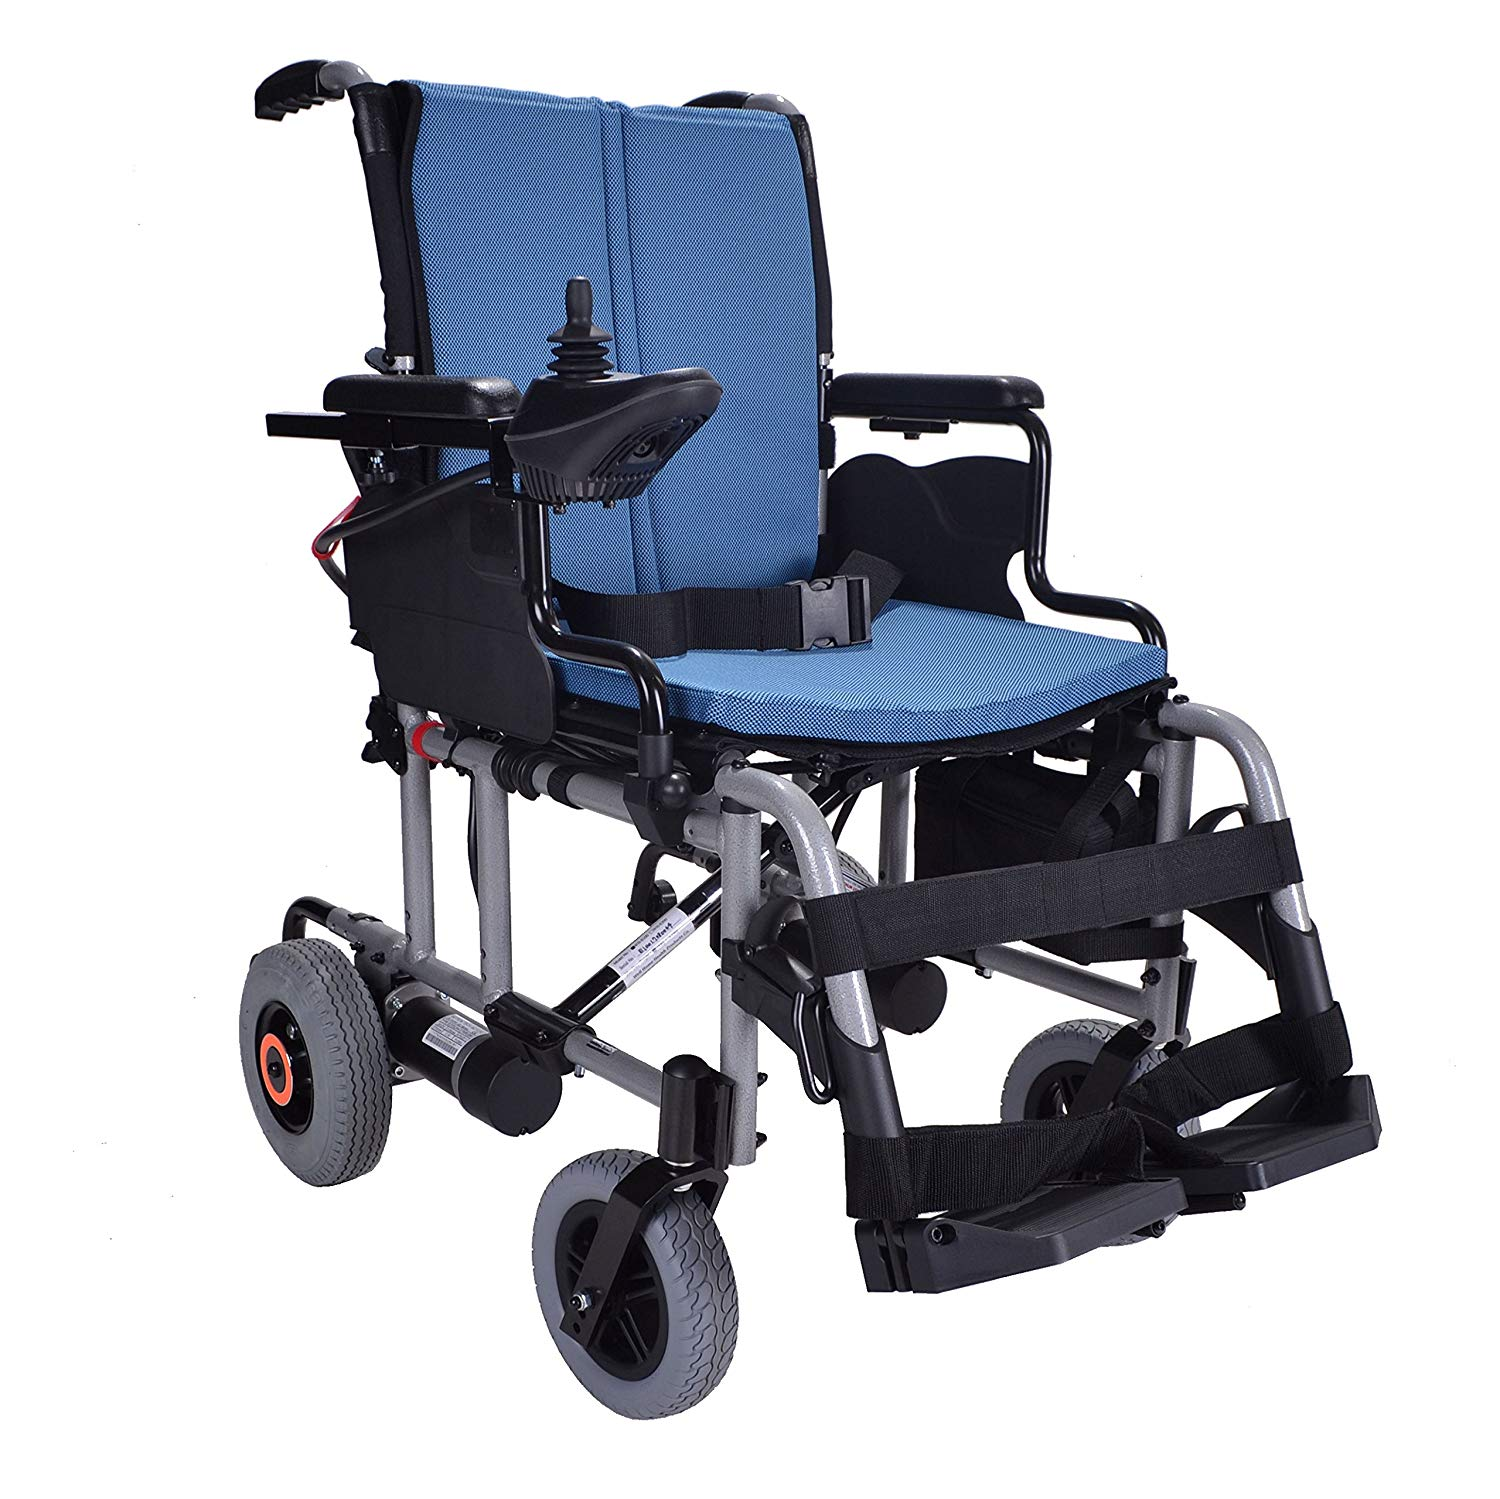wheelchair: (117, 1, 1414, 1429)
